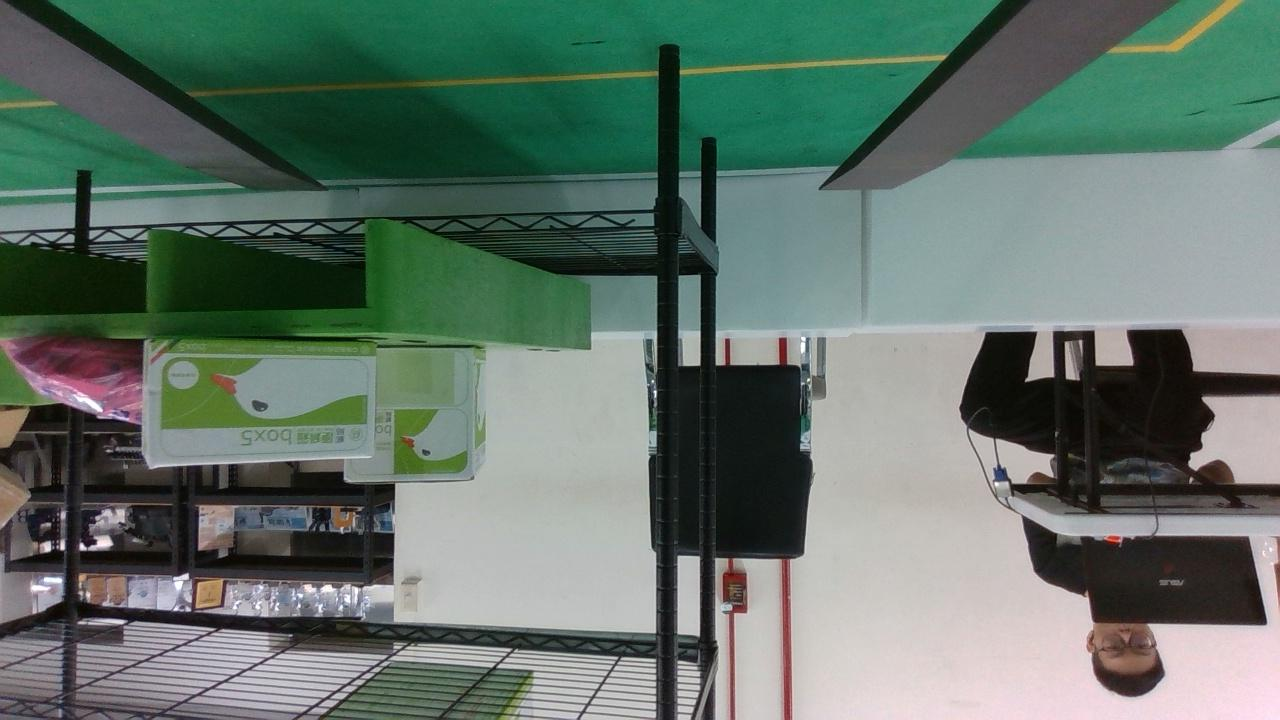Pallet: (0, 218, 396, 338)
